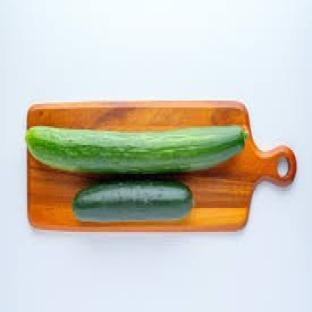Cucumber: (27, 127, 247, 173), (73, 181, 192, 221)
